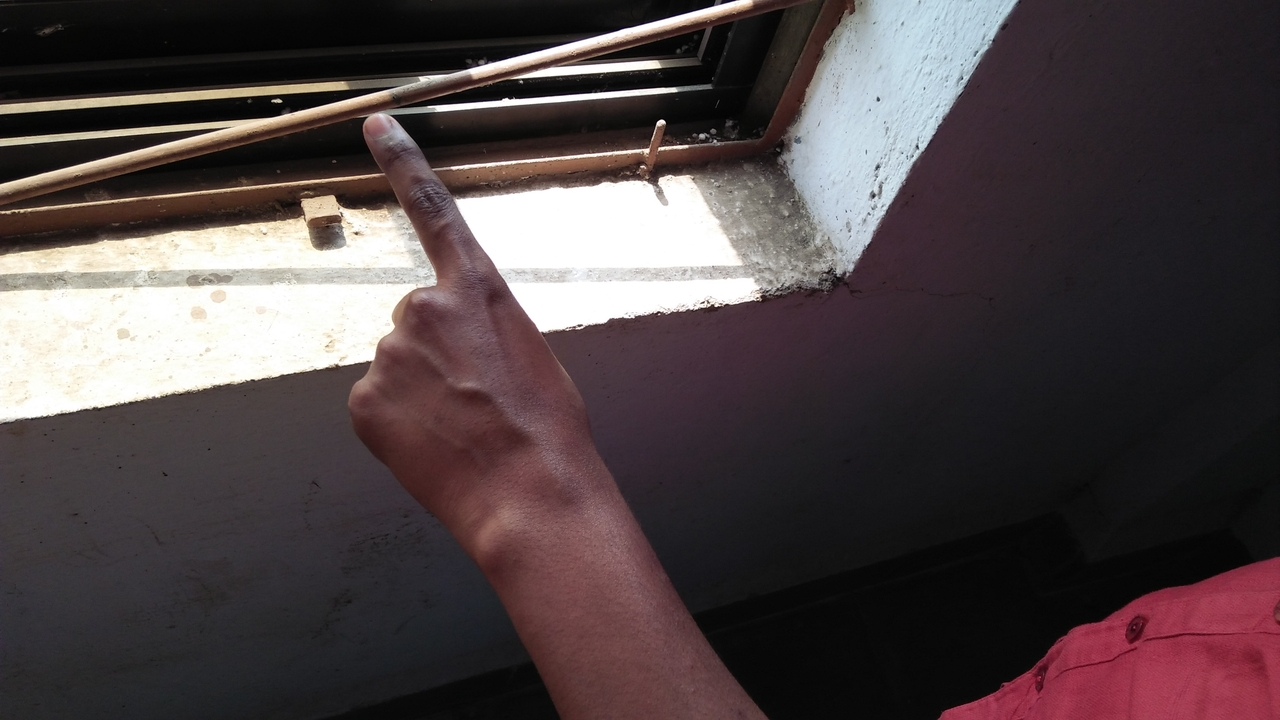fingertip: (358, 102, 416, 156)
